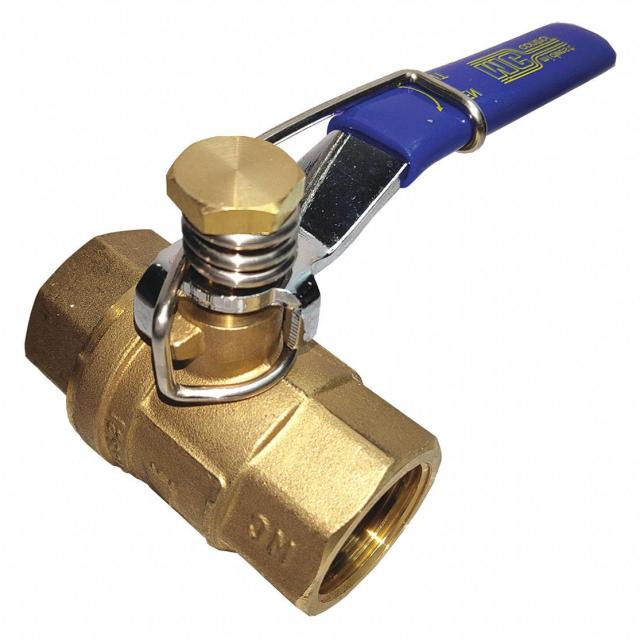closed_valve: (24, 19, 619, 619)
